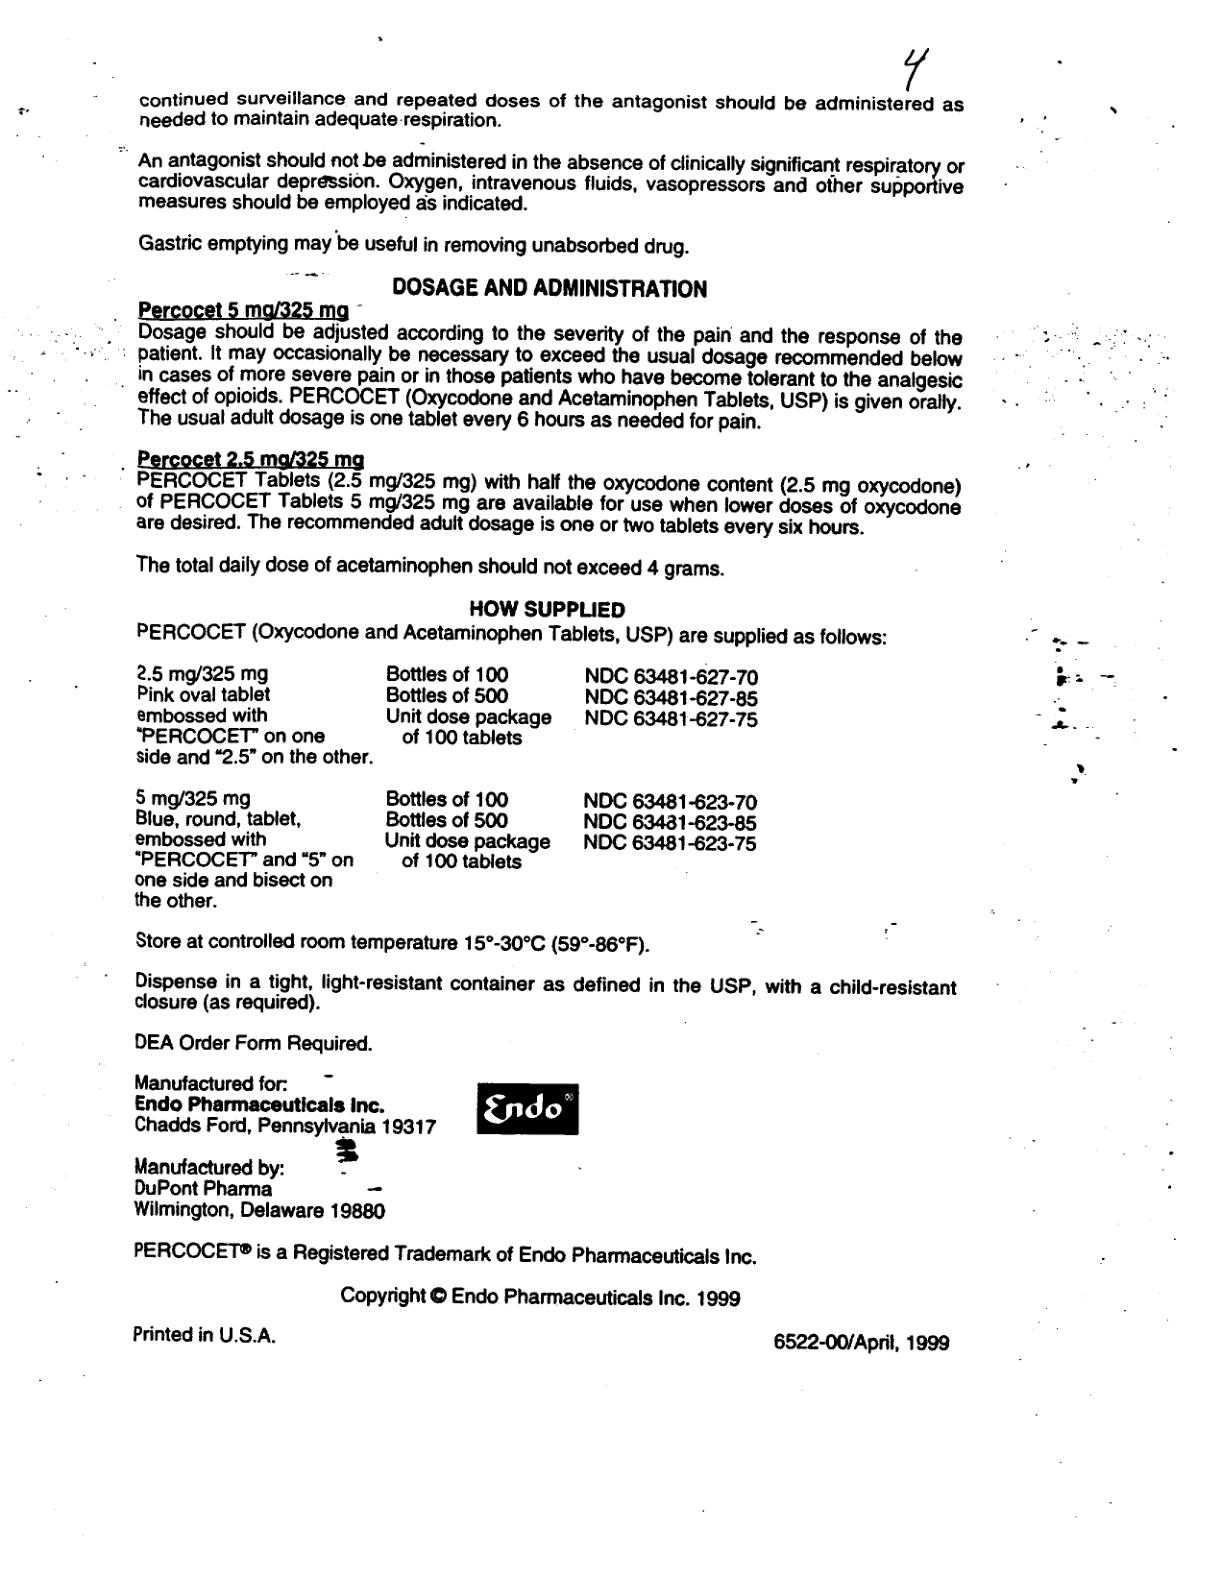nolines: (127, 651, 770, 918)
